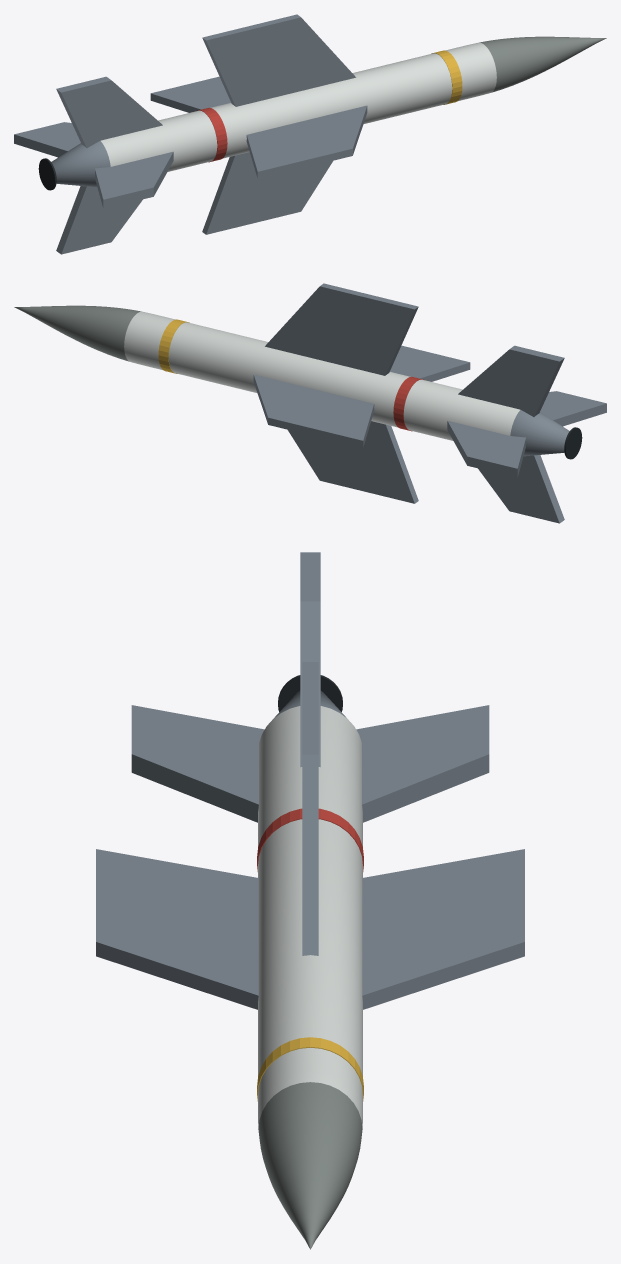
The model's file is cw90_kinzhal.glb.
The picture shows the model from 3 angles, top to bottom: view 1: azimuth 30°, elevation 25°; view 2: azimuth 150°, elevation 25°; view 3: azimuth 270°, elevation 25°; orthographic projection. The views are drawn at different scales.
Parts seen in each view (by area): view 1: cw90_kinzhal; view 2: cw90_kinzhal; view 3: cw90_kinzhal.
Boxes of the visible parts, <box> form: cw90_kinzhal: <box>14,14,606,254</box>; cw90_kinzhal: <box>14,283,606,523</box>; cw90_kinzhal: <box>96,552,524,1249</box>.
Bounding box in the file's own units: 10 × 3.32 × 3.32.
